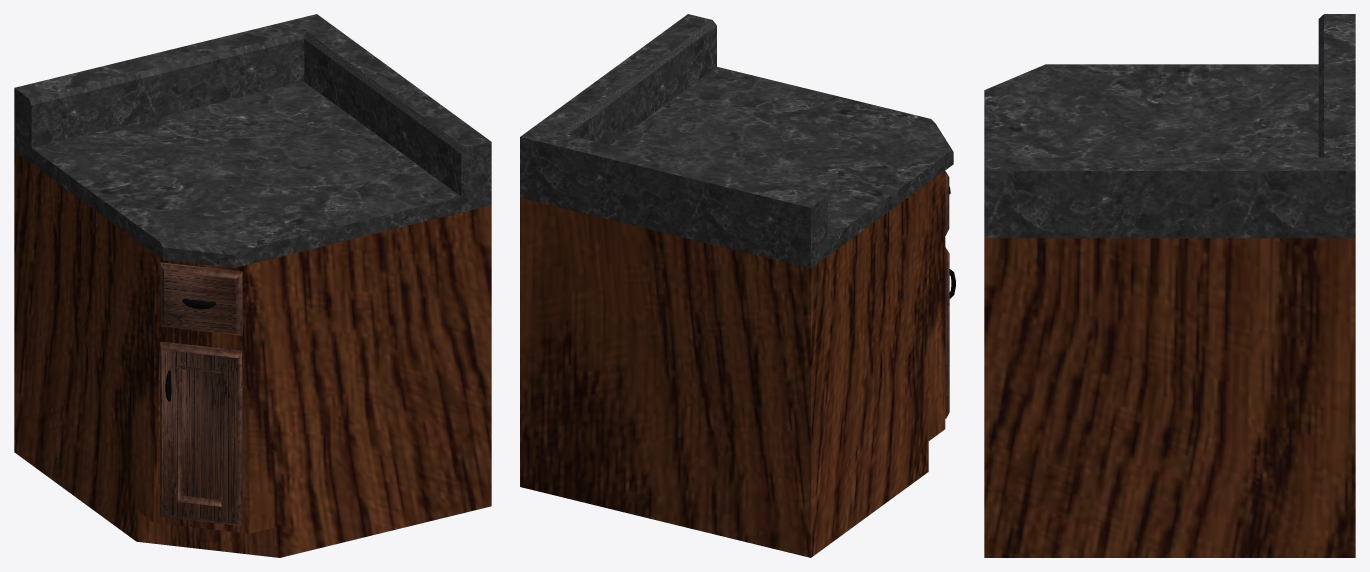
File: kitchen_corner.glb
3 renders of one model, left to right at view 1: azimuth 30°, elevation 25°; view 2: azimuth 150°, elevation 25°; view 3: azimuth 270°, elevation 25°, orthographic. The views are drawn at different scales.
Parts seen in each view (by area): view 1: object3.003, object2.004, object6, object1.004; view 2: object3.003, object2.004, object6; view 3: object3.003, object2.004.
Boxes of the visible parts, box(x1,y1,x2,y2) form: object3.003: box(14, 151, 491, 557); object2.004: box(14, 14, 491, 267); object6: box(160, 341, 242, 526); object1.004: box(160, 262, 242, 335); object3.003: box(520, 171, 945, 557); object2.004: box(520, 14, 953, 268); object6: box(945, 247, 949, 418); object3.003: box(984, 238, 1355, 557); object2.004: box(984, 14, 1355, 238).
Size of the model in its own units: 1 by 1.15 by 1.
Materials: 4 (3 with a texture image).
